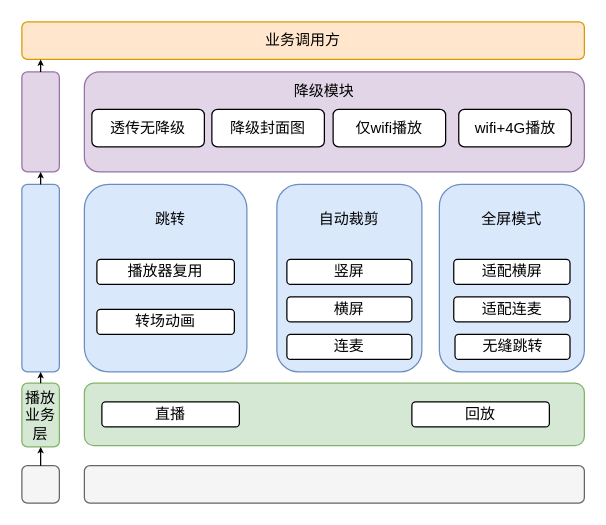
The diagram is 606 pixels wide and 525 high, and some of its shapes have lost their labels. The box of each missing label's shape, as (x1, y1, x2, y2) in pixels:
底层: (21, 464, 59, 503)
播放器: (83, 464, 584, 503)
播放控制层: (21, 71, 59, 172)
视图业务层: (21, 183, 59, 372)
